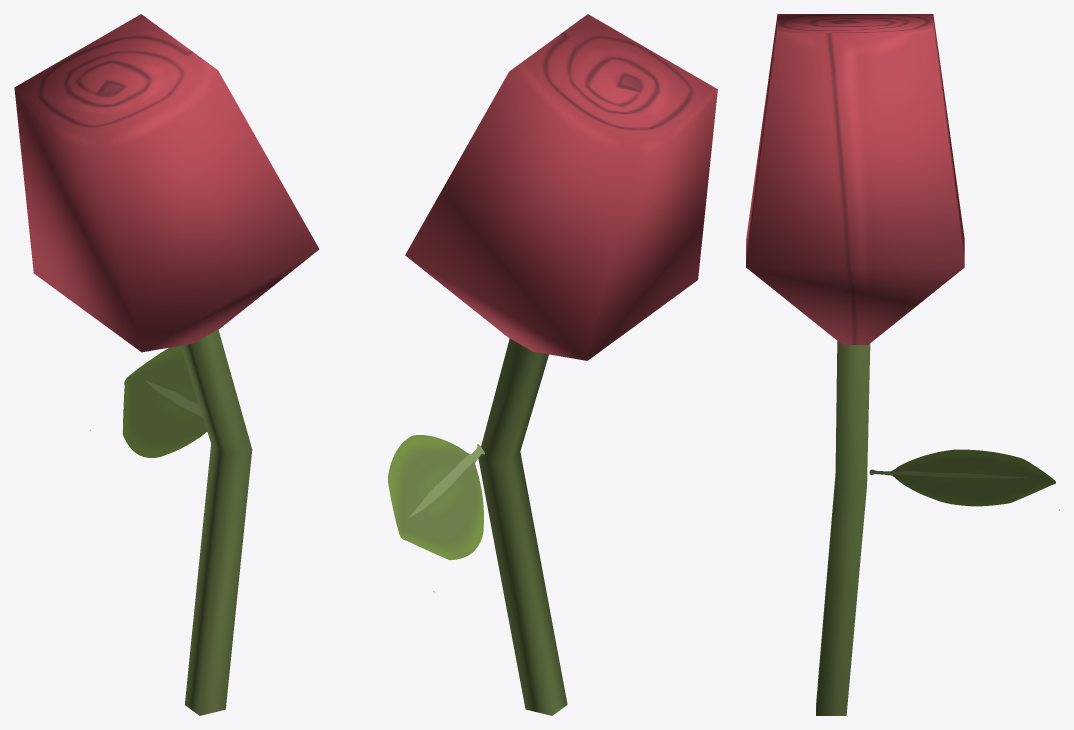
Rendered from Flor_Rosa.fbx.
3 views of the same model, side by side, from view 1: azimuth 30°, elevation 25°; view 2: azimuth 150°, elevation 25°; view 3: azimuth 270°, elevation 25° (orthographic). The views are drawn at different scales.
Parts seen in each view (by area): view 1: Flor_Rosa; view 2: Flor_Rosa; view 3: Flor_Rosa.
Part boxes in pixels (x1,y1,x2,y2): Flor_Rosa: [14, 14, 319, 715]; Flor_Rosa: [388, 14, 717, 715]; Flor_Rosa: [746, 14, 1059, 715].
Bounding box in the file's own units: 18.29 × 52.08 × 22.14.
